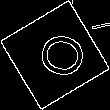O_W: (25, 28, 85, 82)
